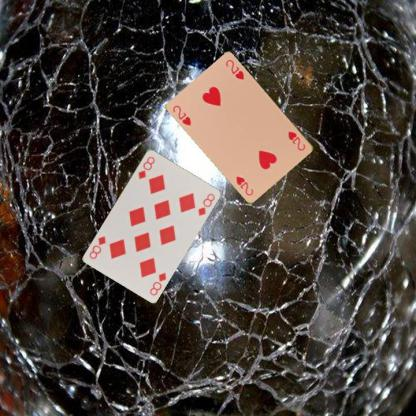2h: (285, 127, 307, 152), (170, 103, 192, 128)
8d: (146, 270, 168, 296), (135, 154, 156, 180)
